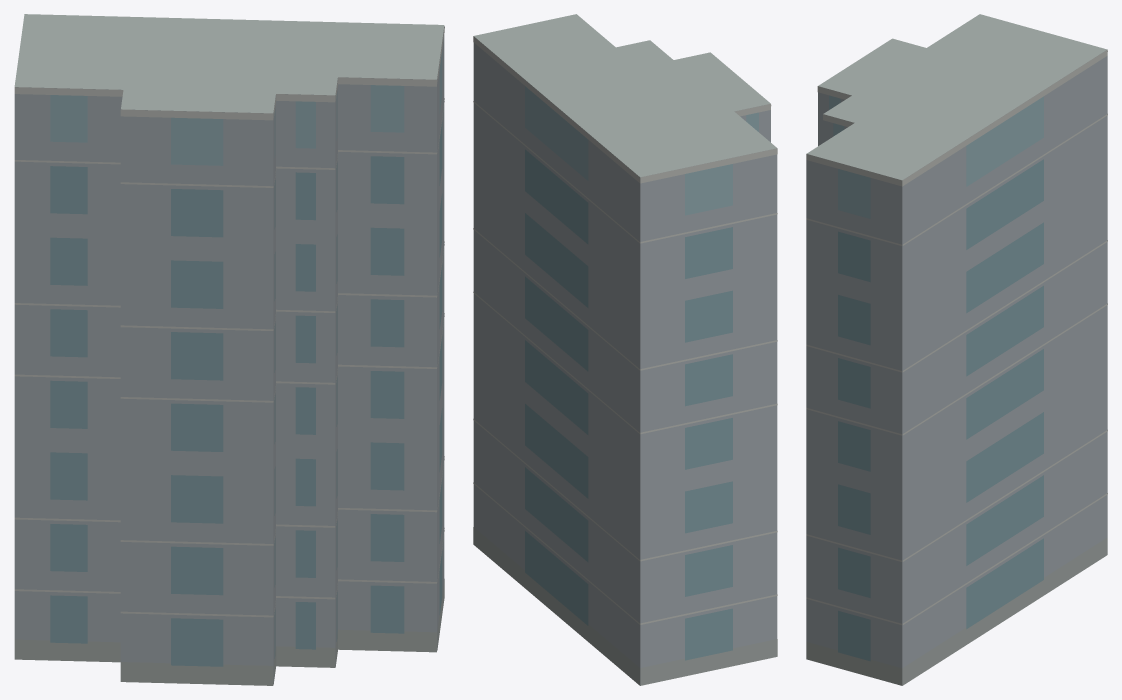
The model's file is survey-upis-32739694.glb.
3 renders of one model, left to right at view 1: azimuth 30°, elevation 25°; view 2: azimuth 150°, elevation 25°; view 3: azimuth 270°, elevation 25°, orthographic. The views are drawn at different scales.
Parts seen in each view (by area): view 1: survey-upis-32739694.tmp; view 2: survey-upis-32739694.tmp; view 3: survey-upis-32739694.tmp.
Boxes of the visible parts, left/top/right/bottom form: survey-upis-32739694.tmp: left=14, top=14, right=444, bottom=685; survey-upis-32739694.tmp: left=473, top=14, right=777, bottom=685; survey-upis-32739694.tmp: left=806, top=14, right=1107, bottom=685.
Size of the model in its own units: 14.1 by 19.95 by 10.79.
